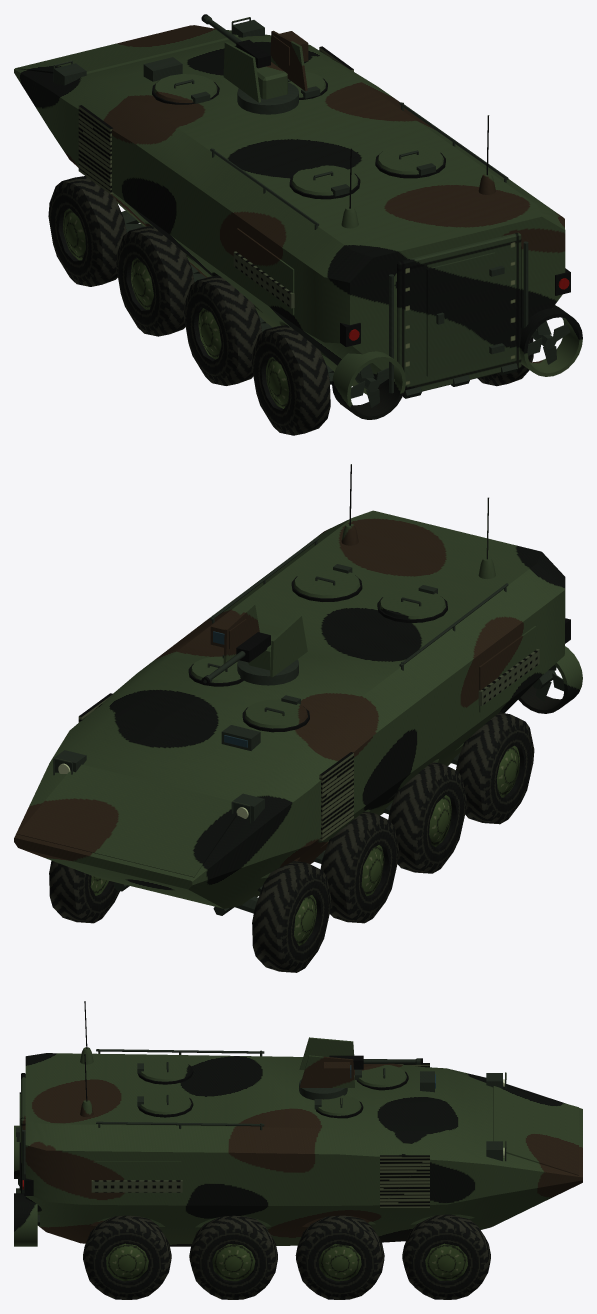
Rendered from amphibious_apc_lod1.glb.
3 views of the same model, one above another, from view 1: azimuth 30°, elevation 25°; view 2: azimuth 150°, elevation 25°; view 3: azimuth 270°, elevation 25° (orthographic). The views are drawn at different scales.
Parts seen in each view (by area): view 1: hull, ramp, wheel_L_0, wheel_L_3, wheel_L_2, wheel_L_1, turret, cannon, wheel_R_0; view 2: hull, wheel_L_3, wheel_L_2, wheel_L_0, wheel_L_1, turret, wheel_R_3, cannon; view 3: hull, wheel_R_3, wheel_R_1, wheel_R_2, wheel_R_0, turret, ramp, cannon.
Part boxes in pixels (x1=…): hull: x1=14, y1=17, x2=582, y2=419; ramp: x1=397, y1=232, x2=521, y2=396; wheel_L_0: x1=251, y1=325, x2=330, y2=435; wheel_L_3: x1=48, y1=176, x2=126, y2=286; wheel_L_2: x1=116, y1=225, x2=194, y2=336; wheel_L_1: x1=184, y1=275, x2=261, y2=385; turret: x1=223, y1=30, x2=308, y2=114; cannon: x1=201, y1=14, x2=270, y2=68; wheel_R_0: x1=477, y1=336, x2=533, y2=386; hull: x1=14, y1=464, x2=582, y2=915; wheel_L_3: x1=252, y1=861, x2=331, y2=972; wheel_L_2: x1=320, y1=811, x2=398, y2=923; wheel_L_0: x1=456, y1=712, x2=534, y2=824; wheel_L_1: x1=388, y1=762, x2=466, y2=873; turret: x1=210, y1=604, x2=307, y2=685; wheel_R_3: x1=49, y1=860, x2=119, y2=923; cannon: x1=201, y1=632, x2=270, y2=685; hull: x1=14, y1=1001, x2=582, y2=1246; wheel_R_3: x1=402, y1=1214, x2=490, y2=1299; wheel_R_1: x1=189, y1=1215, x2=277, y2=1299; wheel_R_2: x1=295, y1=1215, x2=384, y2=1299; wheel_R_0: x1=83, y1=1215, x2=171, y2=1299; turret: x1=299, y1=1037, x2=354, y2=1100; ramp: x1=16, y1=1073, x2=25, y2=1193; cannon: x1=329, y1=1055, x2=422, y2=1069.
Size of the model in its own units: 3.62 by 4.09 by 9.14.
Materials: 1 (1 with a texture image).
